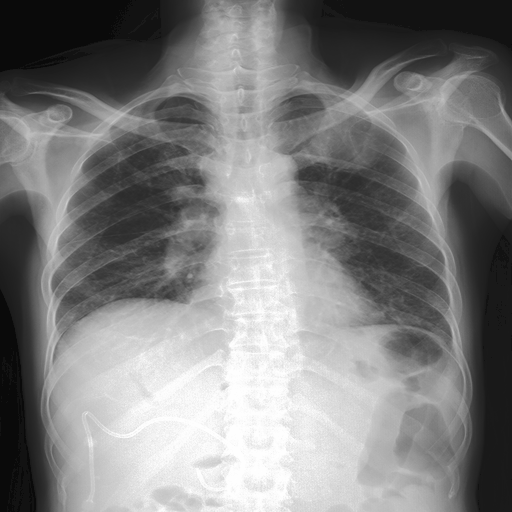Other lesion: (200, 152, 227, 194)
Pleural thickening: (297, 106, 381, 170)
Pulmonary fibrosis: (291, 106, 376, 173)
